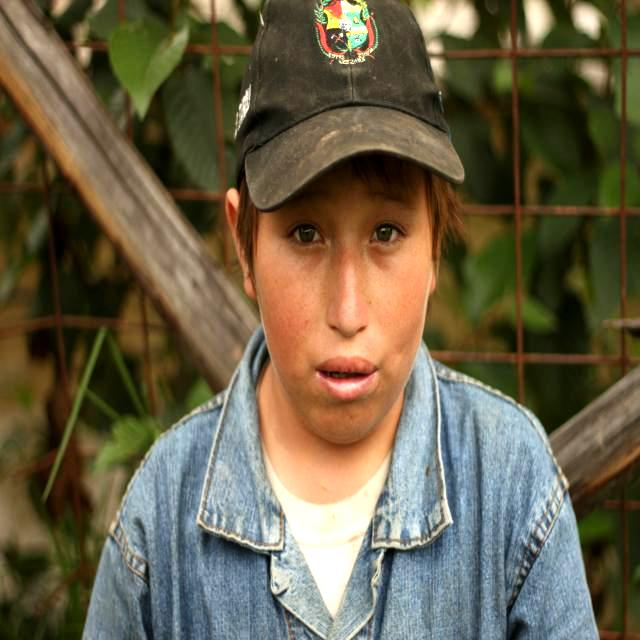no_hard_hat: (235, 0, 464, 211)
person: (135, 0, 598, 640)
